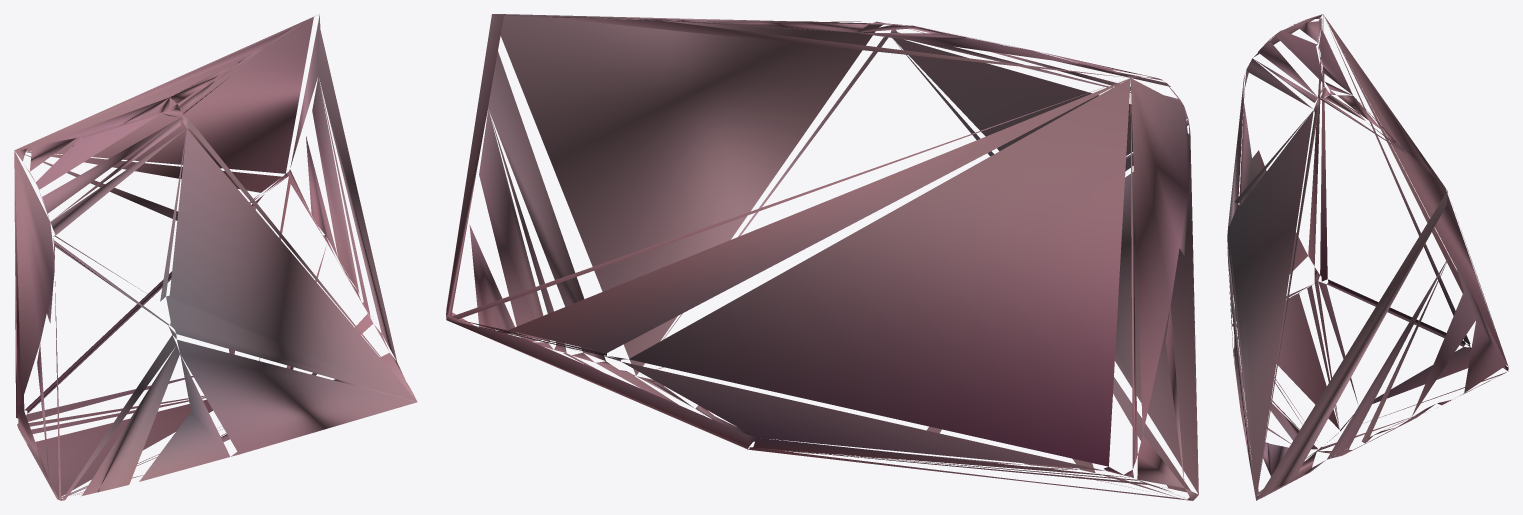
The model's file is alpha5.gltf.
The picture shows the model from 3 angles, left to right: view 1: azimuth 30°, elevation 25°; view 2: azimuth 150°, elevation 25°; view 3: azimuth 270°, elevation 25°; orthographic projection. The views are drawn at different scales.
Bounding box in the file's own units: 0.6776 × 0.5568 × 0.455.
